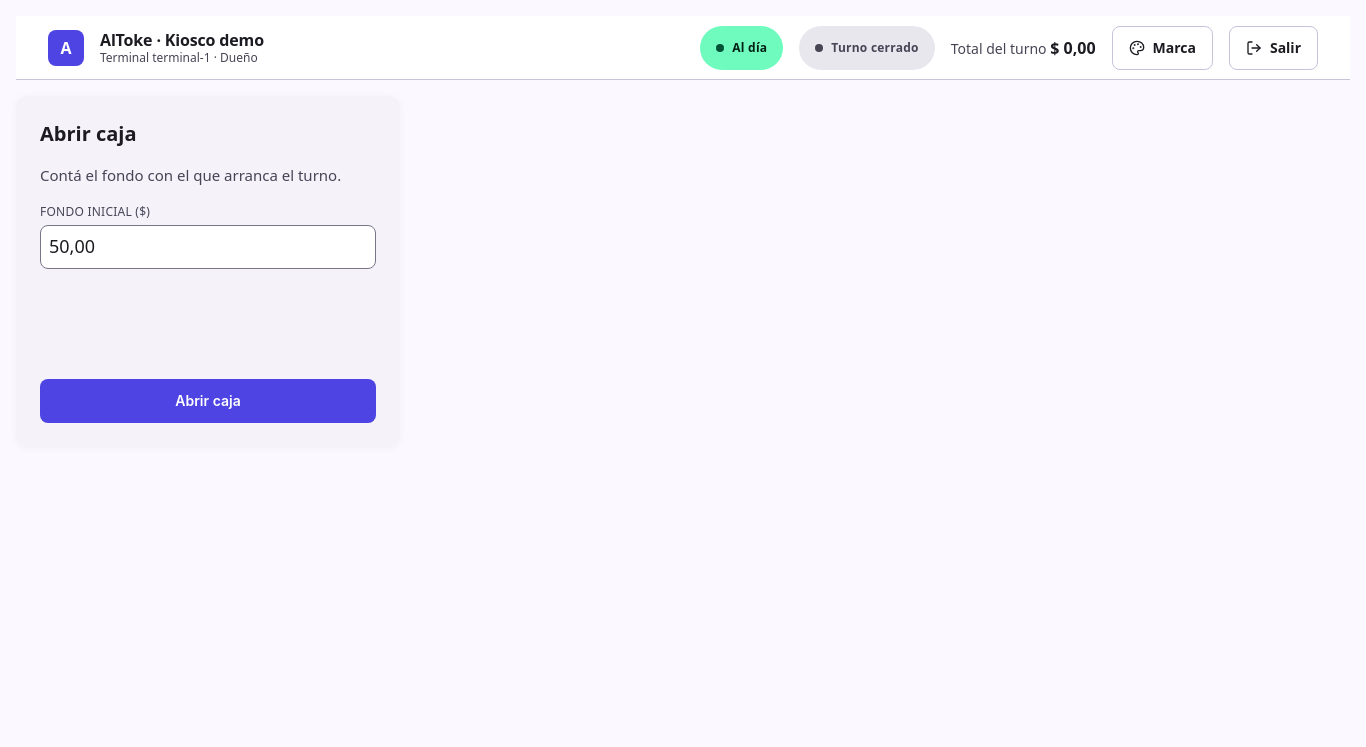
Test: POS — marca del tenant › rechaza un par texto/fondo ilegible y deja aplicada la marca anterior
The width and height of the screenshot is (1366, 747).
Click the button "Marca" at {"x": 1162, "y": 48}, box [1112, 26, 1213, 70]
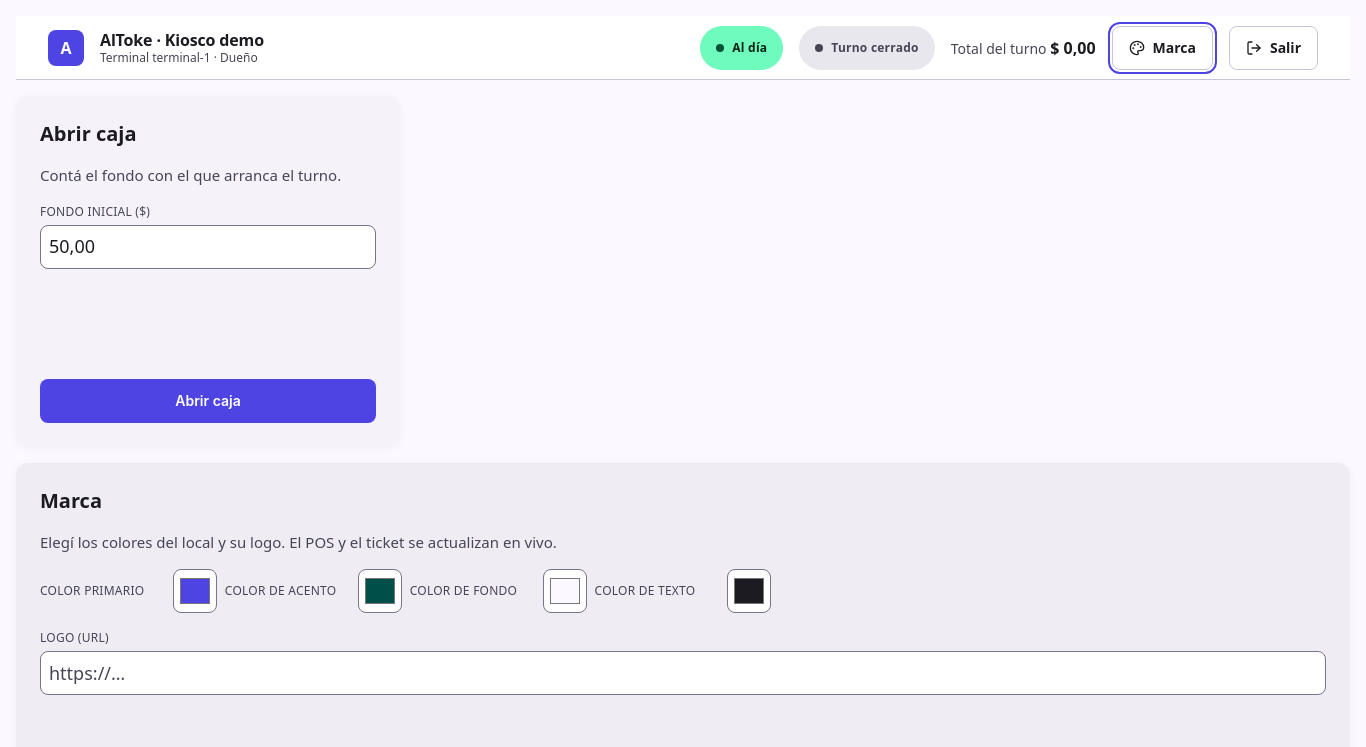
Type "#9a9a9a" into the colour field labelled "Color de texto" at {"x": 749, "y": 591}, box [727, 569, 771, 613]
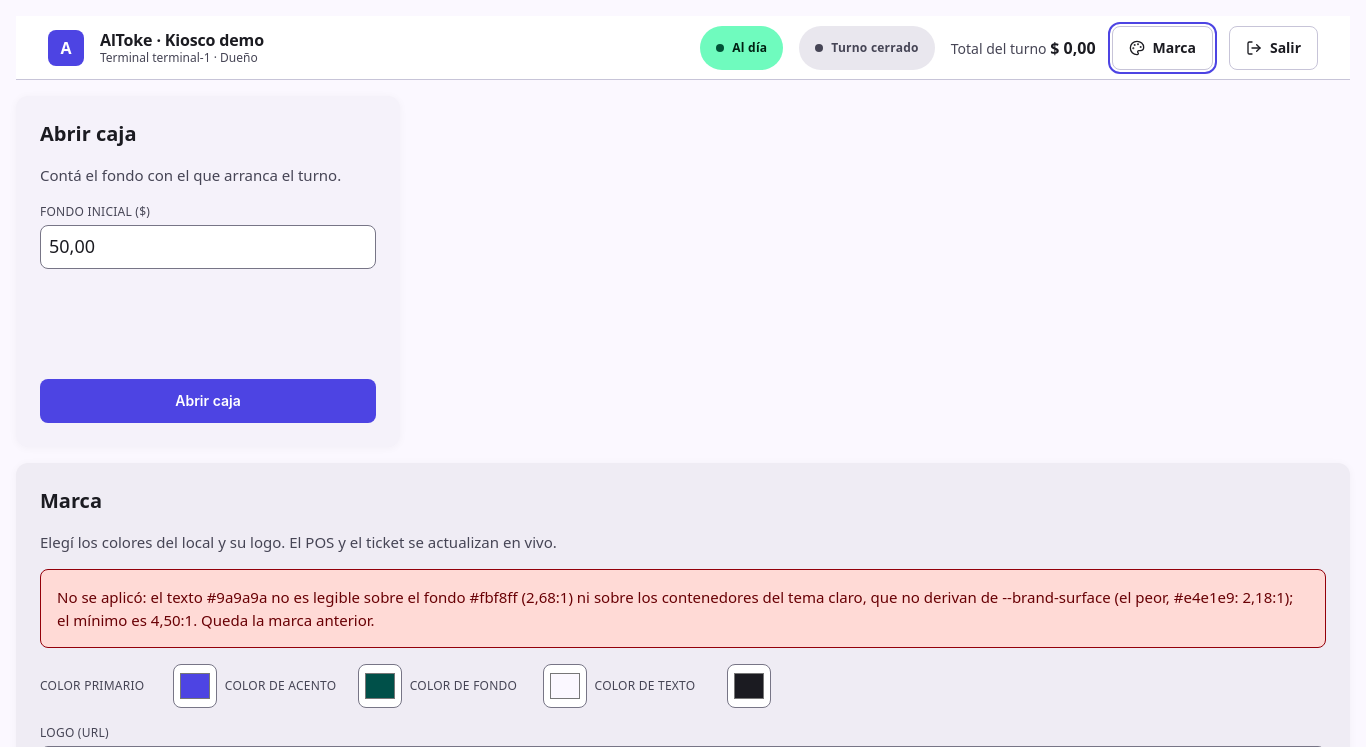
Check: the message shows "texto", box [57, 587, 1293, 630]
Check: the message shows "fondo", box [57, 587, 1293, 630]
